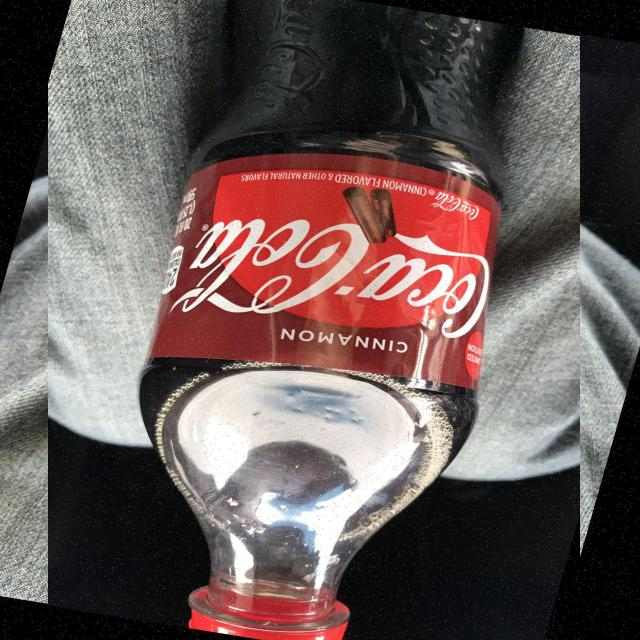coca-cola: (48, 0, 580, 640)
